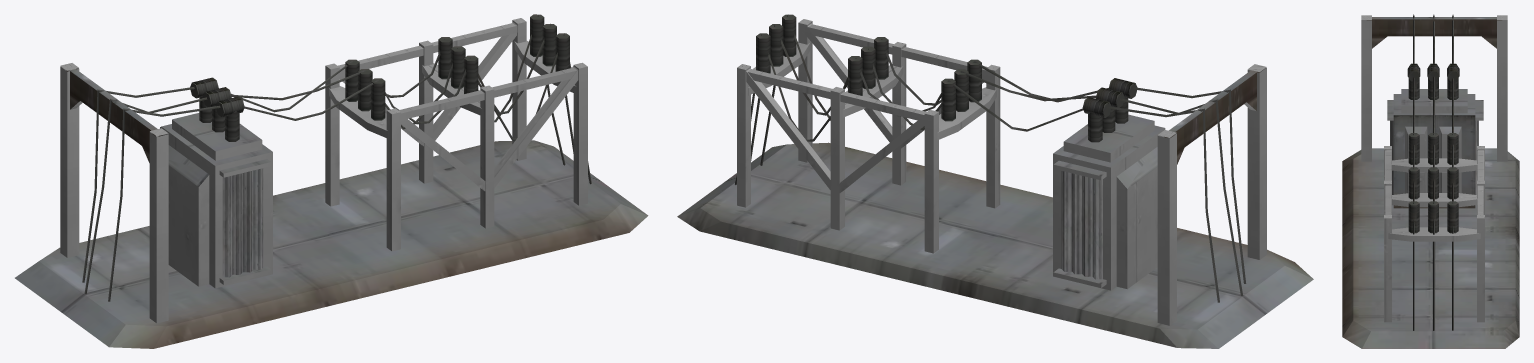
The model's file is ind-substation.zfix-v14.lod0.glb.
3 views of the same model, side by side, from view 1: azimuth 30°, elevation 25°; view 2: azimuth 150°, elevation 25°; view 3: azimuth 270°, elevation 25° (orthographic). The views are drawn at different scales.
Visible parts, largest first — view 1: Industrial_TsrStation_1_Industrial_Walls_FLR_1_0; view 2: Industrial_TsrStation_1_Industrial_Walls_FLR_1_0; view 3: Industrial_TsrStation_1_Industrial_Walls_FLR_1_0.
Boxes of the visible parts, bbox=[...] form: Industrial_TsrStation_1_Industrial_Walls_FLR_1_0: bbox=[15, 14, 648, 348]; Industrial_TsrStation_1_Industrial_Walls_FLR_1_0: bbox=[677, 14, 1313, 348]; Industrial_TsrStation_1_Industrial_Walls_FLR_1_0: bbox=[1342, 14, 1519, 348].
Size of the model in its own units: 11.8 by 4.23 by 4.43.
Materials: 1 (1 with a texture image).
